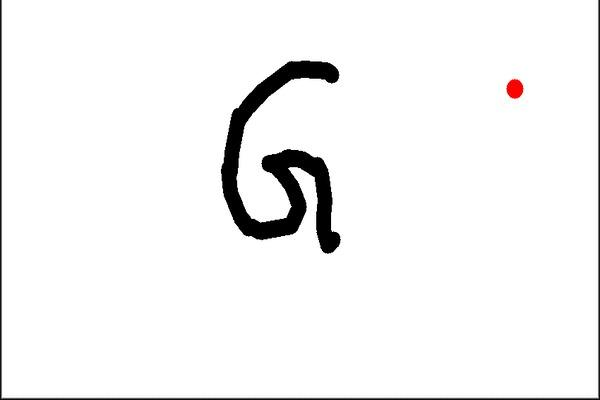G: (213, 54, 348, 260)
